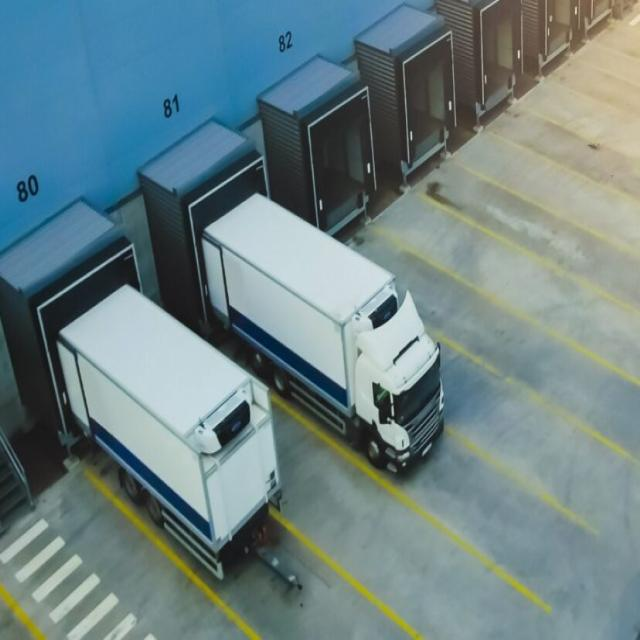libre: (336, 9, 635, 463)
ocupado: (129, 96, 468, 498), (0, 181, 305, 591)
